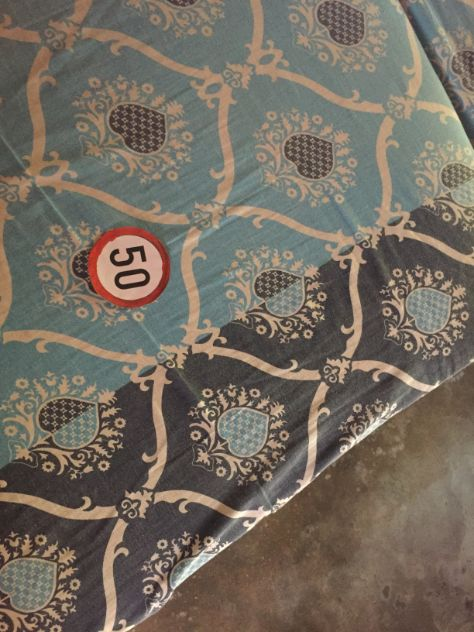speed-50: (88, 227, 166, 305)
